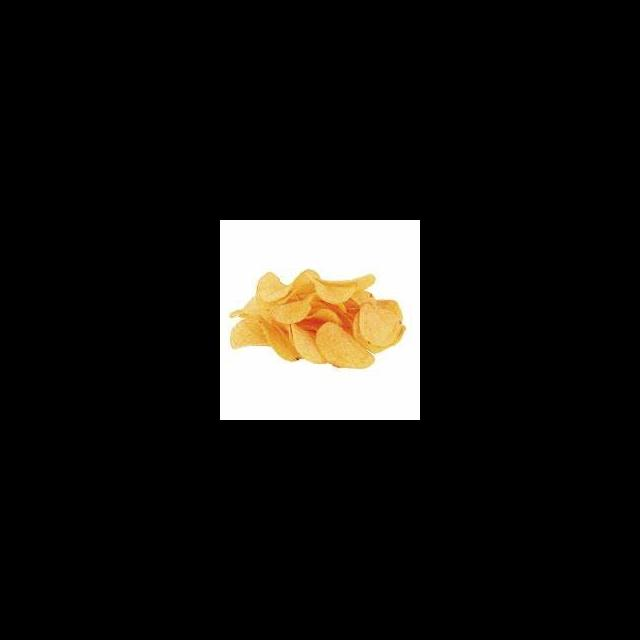food_waste: (229, 270, 411, 378)
